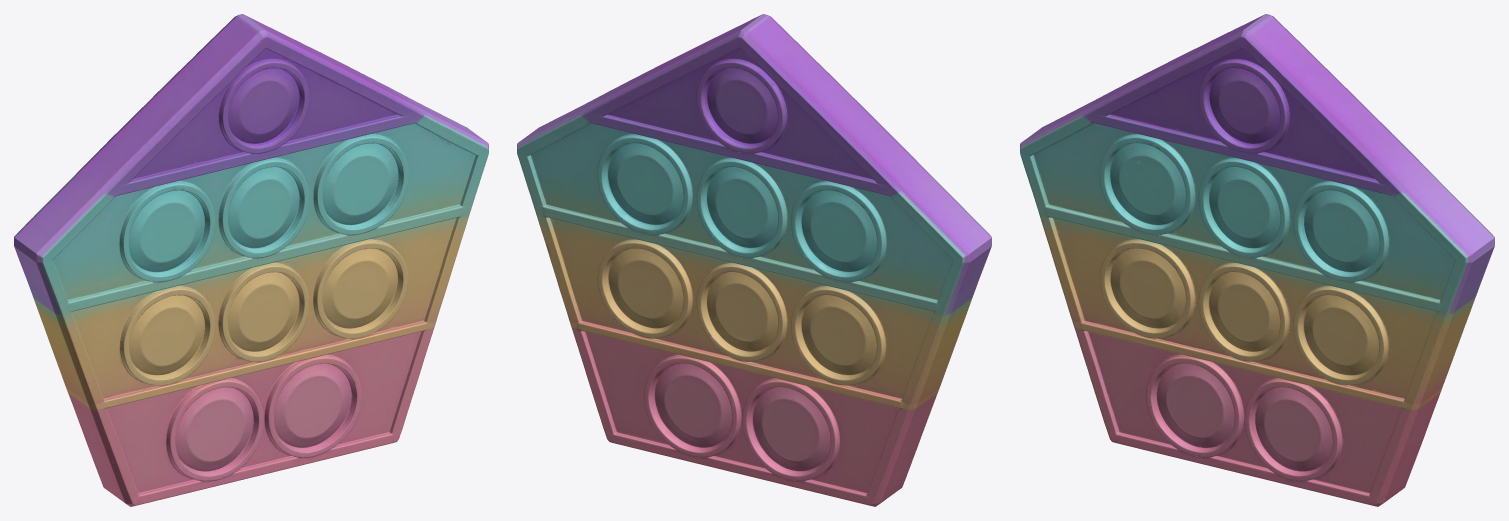
Rendered from pentagono3d3.glb.
The picture shows the model from 3 angles, left to right: view 1: azimuth 30°, elevation 25°; view 2: azimuth 150°, elevation 25°; view 3: azimuth 330°, elevation 25°; orthographic projection.
Visible parts, largest first — view 1: Object_4; view 2: Object_4; view 3: Object_4.
Part boxes in pixels (left/top/right/bottom): Object_4: left=14, top=14, right=488, bottom=506; Object_4: left=517, top=14, right=991, bottom=506; Object_4: left=1020, top=14, right=1494, bottom=506.
Size of the model in its own units: 1.08 by 1.02 by 0.1274.
1 material, 1 textured.
